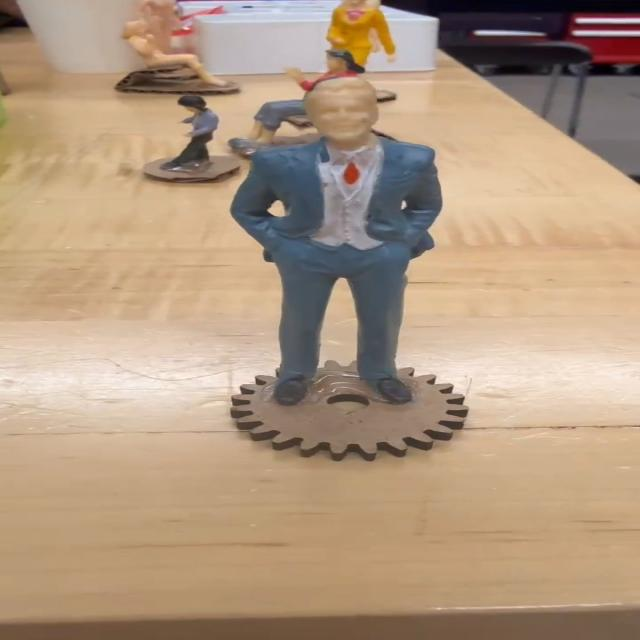Authorized: (237, 73, 443, 408)
